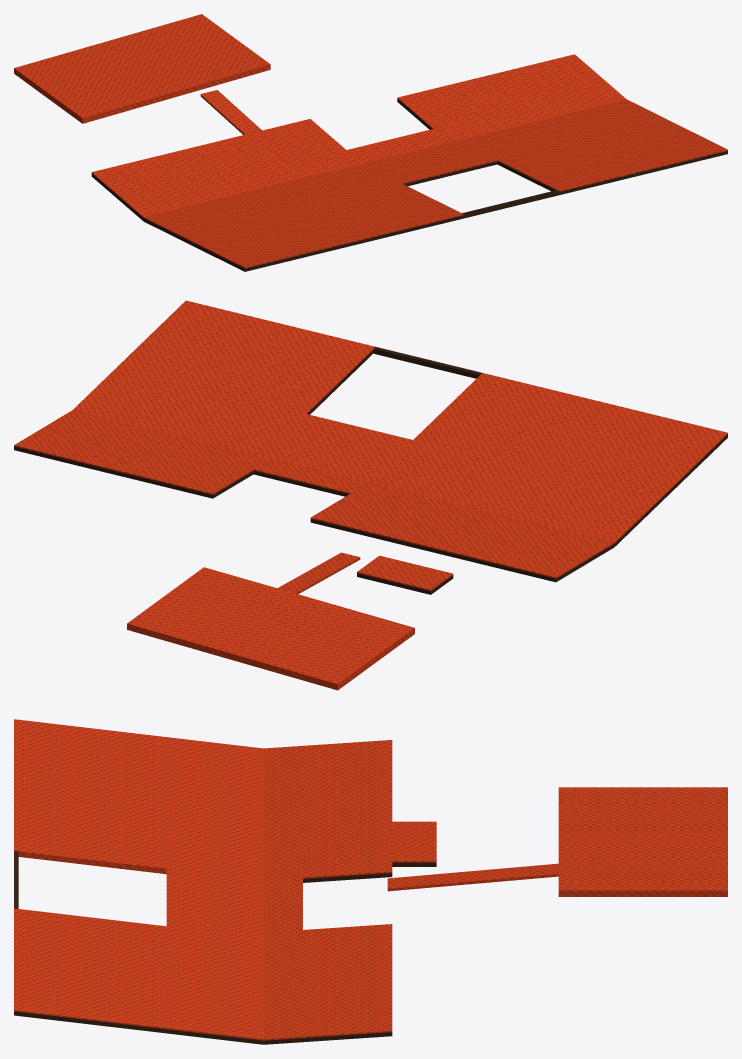
File: cubierta.glb
3 renders of one model, top to bottom at view 1: azimuth 30°, elevation 25°; view 2: azimuth 150°, elevation 25°; view 3: azimuth 270°, elevation 25°, orthographic. The views are drawn at different scales.
Parts seen in each view (by area): view 1: 15281; view 2: 15281; view 3: 15281.
Part boxes in pixels (bbox=[...]): 15281: bbox=[14, 14, 727, 271]; 15281: bbox=[14, 300, 727, 690]; 15281: bbox=[14, 719, 727, 1044].
Size of the model in its own units: 22.75 by 2.04 by 23.6.
87 materials, 87 textured.
